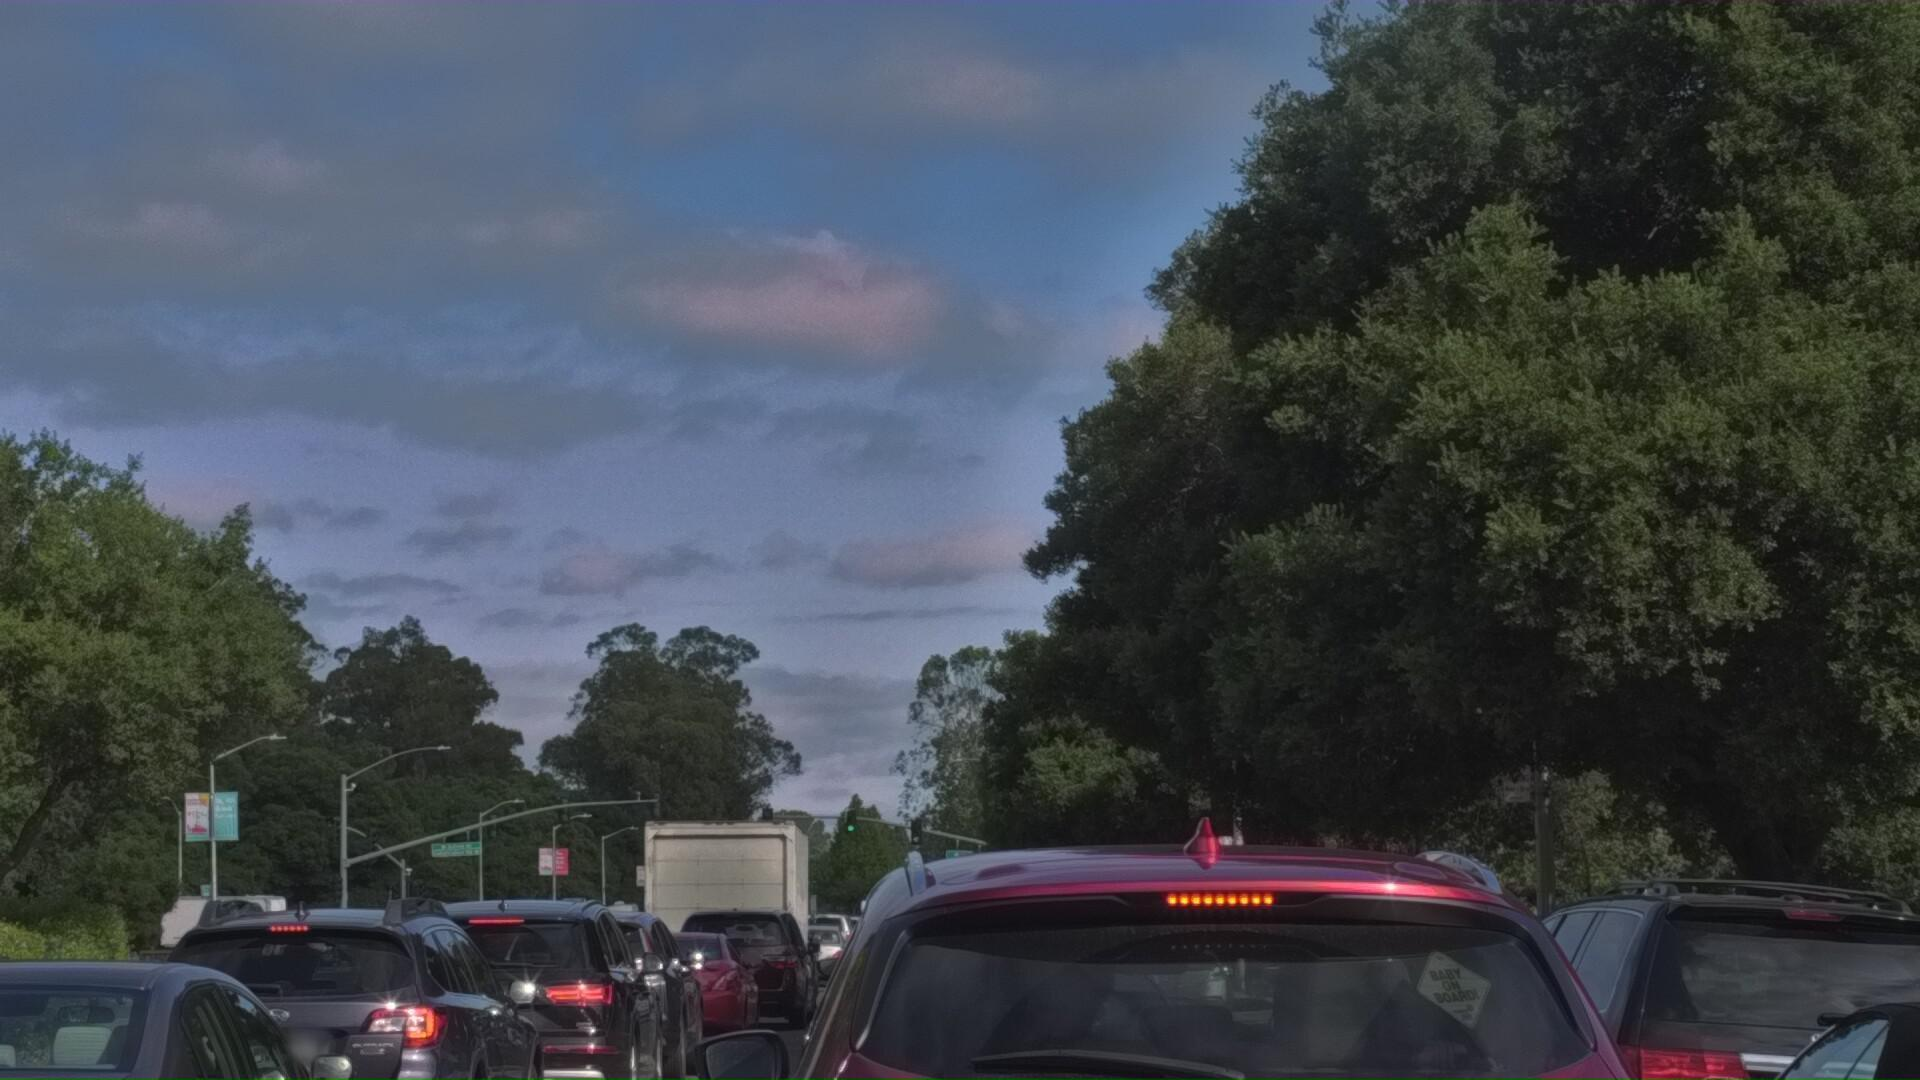car: (571, 775, 1920, 1080), (1396, 901, 1920, 1080), (53, 971, 568, 1080), (1242, 961, 1597, 1080), (0, 986, 404, 1080), (349, 978, 694, 1080), (786, 1026, 1325, 1080), (790, 980, 1071, 1080), (1609, 1013, 1920, 1080), (464, 1005, 728, 1080), (770, 1029, 1149, 1080), (665, 1006, 833, 1080), (579, 1018, 779, 1080), (766, 1022, 865, 1080)
